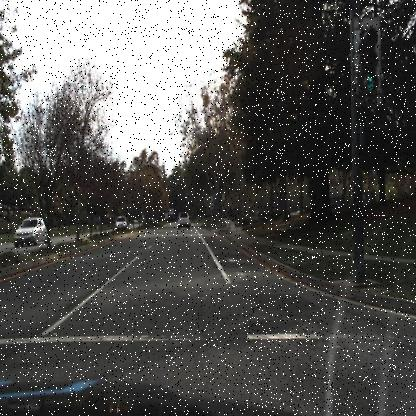car: (13, 214, 48, 250), (176, 208, 190, 230), (114, 214, 130, 231)
